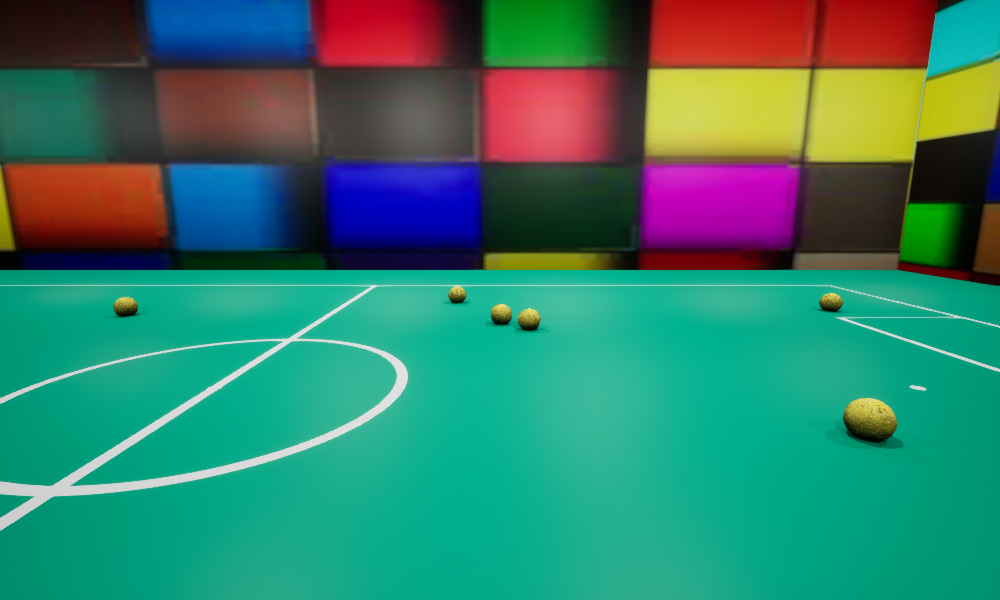b: (843, 398, 896, 441), (518, 308, 540, 329), (113, 297, 137, 315), (819, 293, 842, 311), (491, 304, 511, 324), (448, 286, 465, 302)
